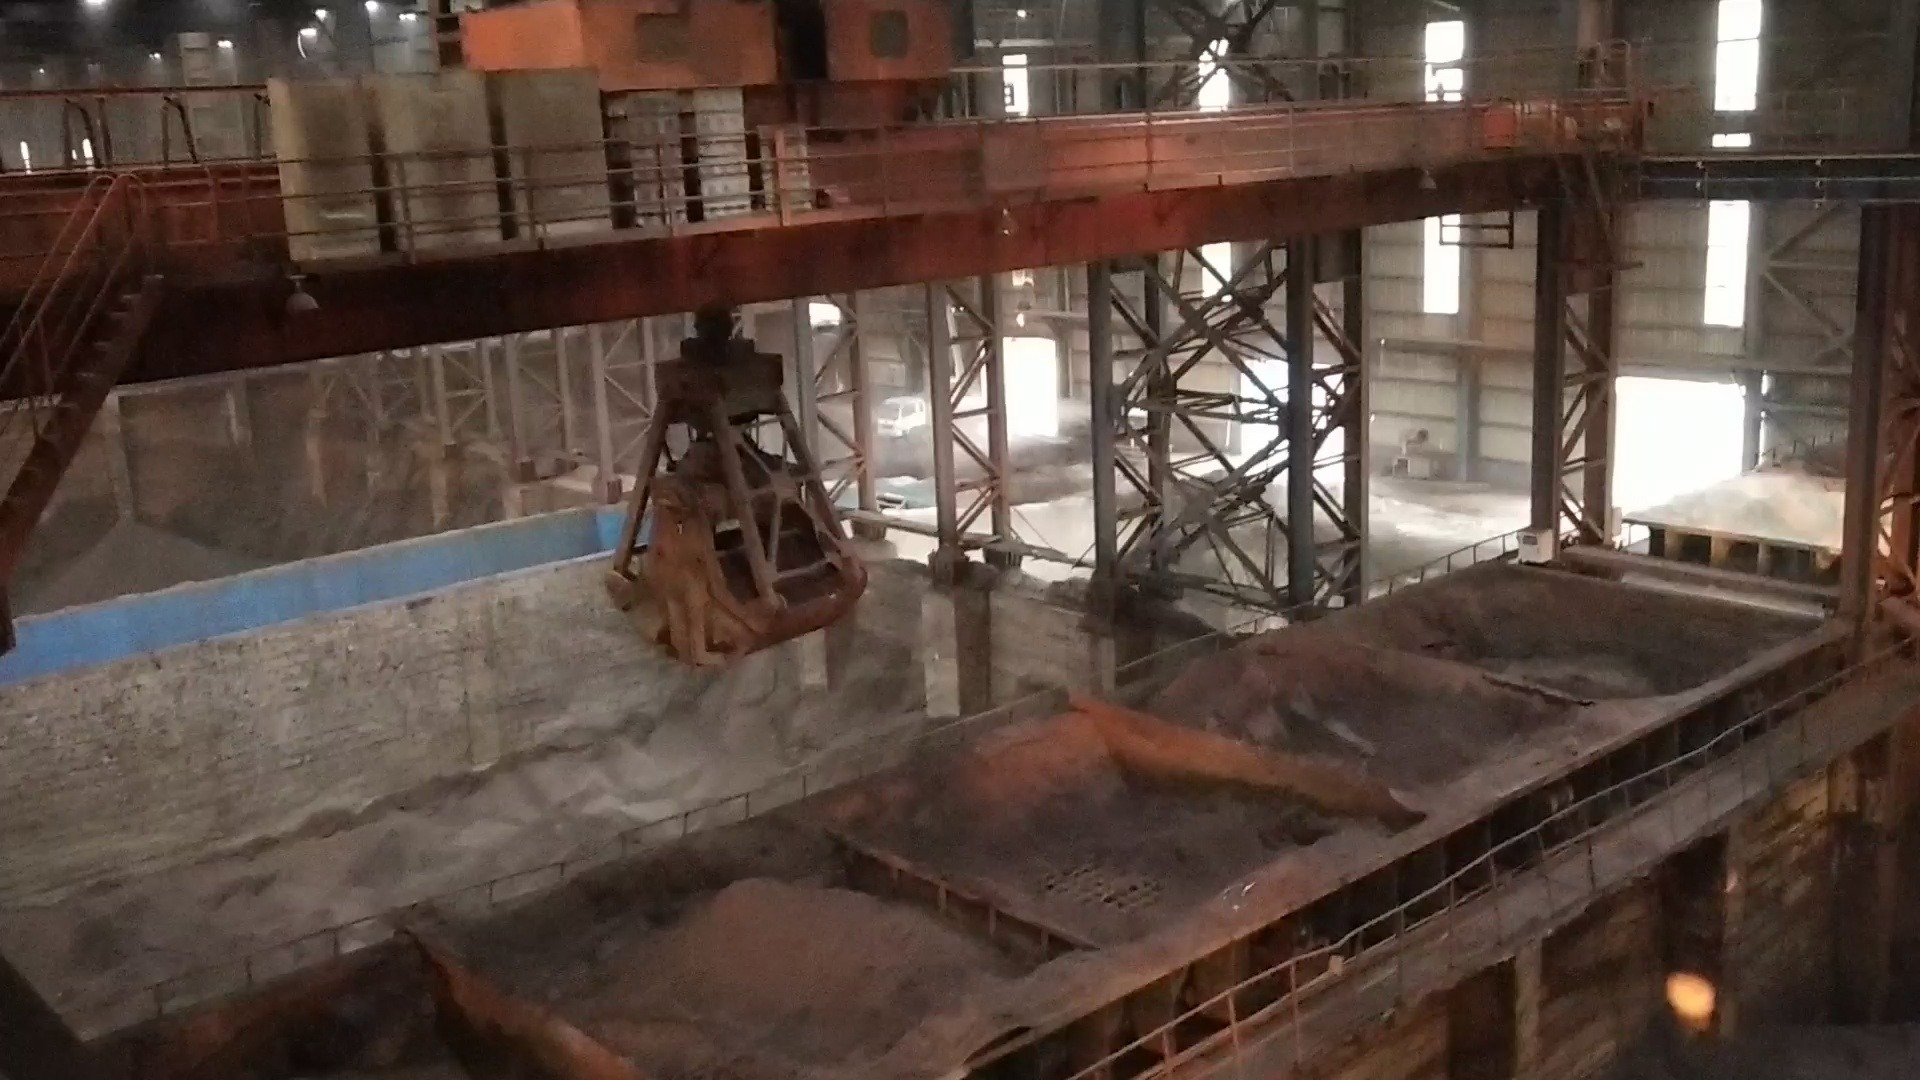grab: (591, 305, 880, 674)
